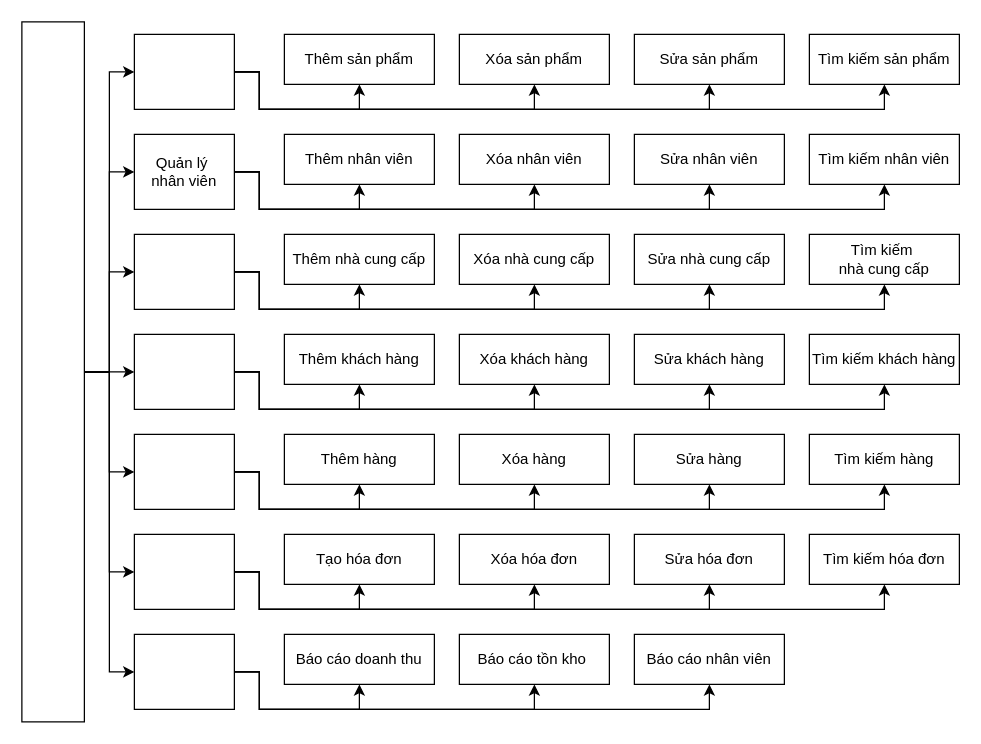
Some shapes in this 981 by 744 pixel diagram are drawn without their labels. The shapes that lost their labels are listed below. From the top down, each one's box as (x1, y1, x2, y2) in pixels, then its label:
(133, 33, 234, 109): Quản lý sản phẩm
(133, 233, 234, 309): Quản lý nhà cung cấp
(21, 21, 84, 722): Quản lý cửa hàng thời trang
(133, 333, 234, 409): Quản lý khách hàng
(133, 433, 234, 509): Quản lý kho
(133, 533, 234, 609): Quản lý hóa đơn
(133, 633, 234, 709): Thống kê báo cáo
